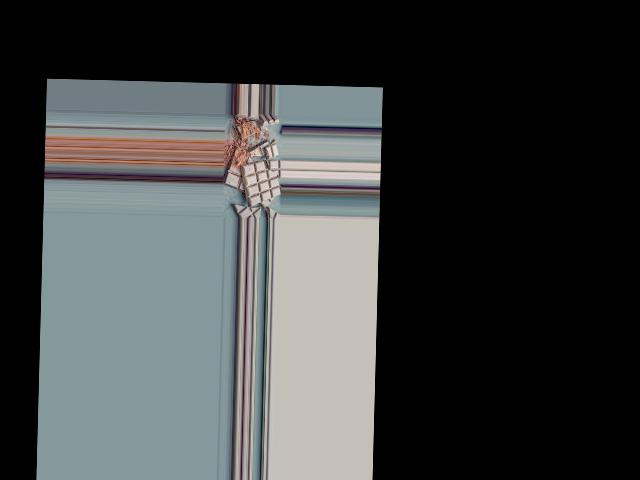chocolate: (240, 160, 281, 208)
